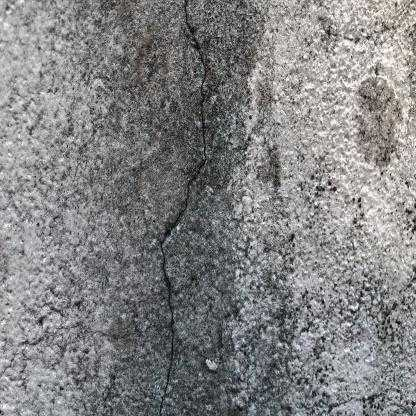crack: (159, 0, 208, 414)
